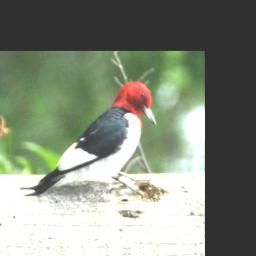Woodpecker: (19, 81, 159, 196)
